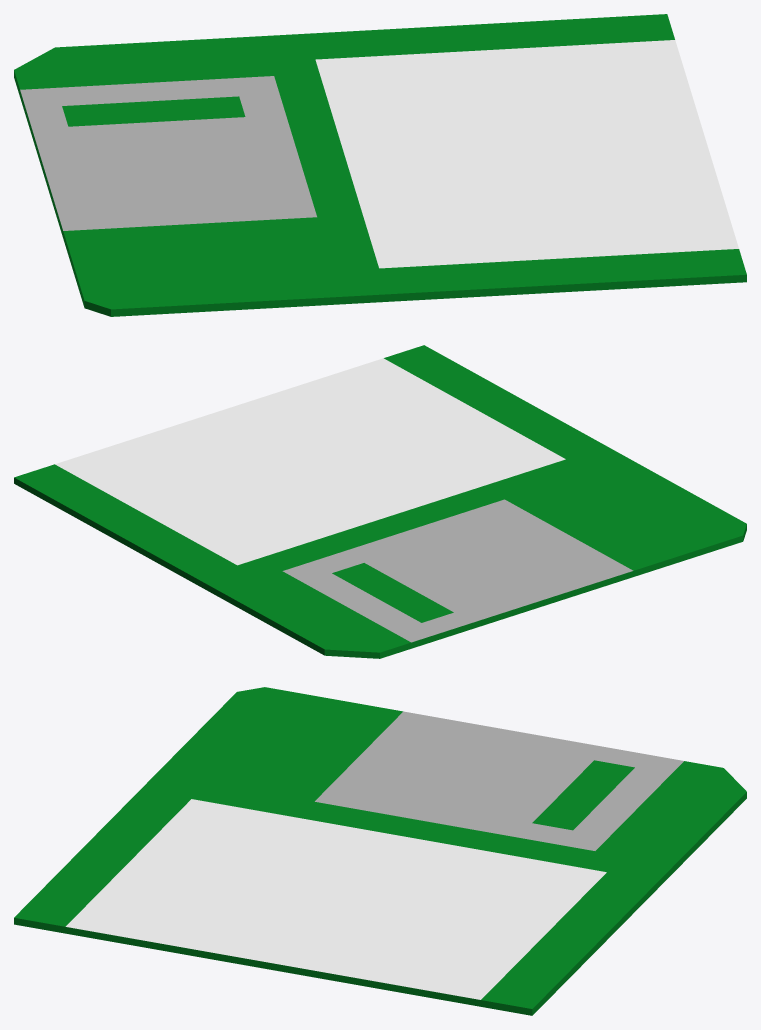
File: Floppy_003.fbx
3 views of the same model, one above another, from view 1: azimuth 30°, elevation 25°; view 2: azimuth 150°, elevation 25°; view 3: azimuth 270°, elevation 25° (orthographic). The views are drawn at different scales.
Visible parts, largest first — view 1: Floppy.003; view 2: Floppy.003; view 3: Floppy.003.
Boxes of the visible parts, x1=… form: Floppy.003: x1=14, y1=14, x2=746, y2=316; Floppy.003: x1=14, y1=345, x2=746, y2=658; Floppy.003: x1=14, y1=687, x2=746, y2=1015.
Size of the model in its own units: 25.39 by 0.25 by 24.42.
